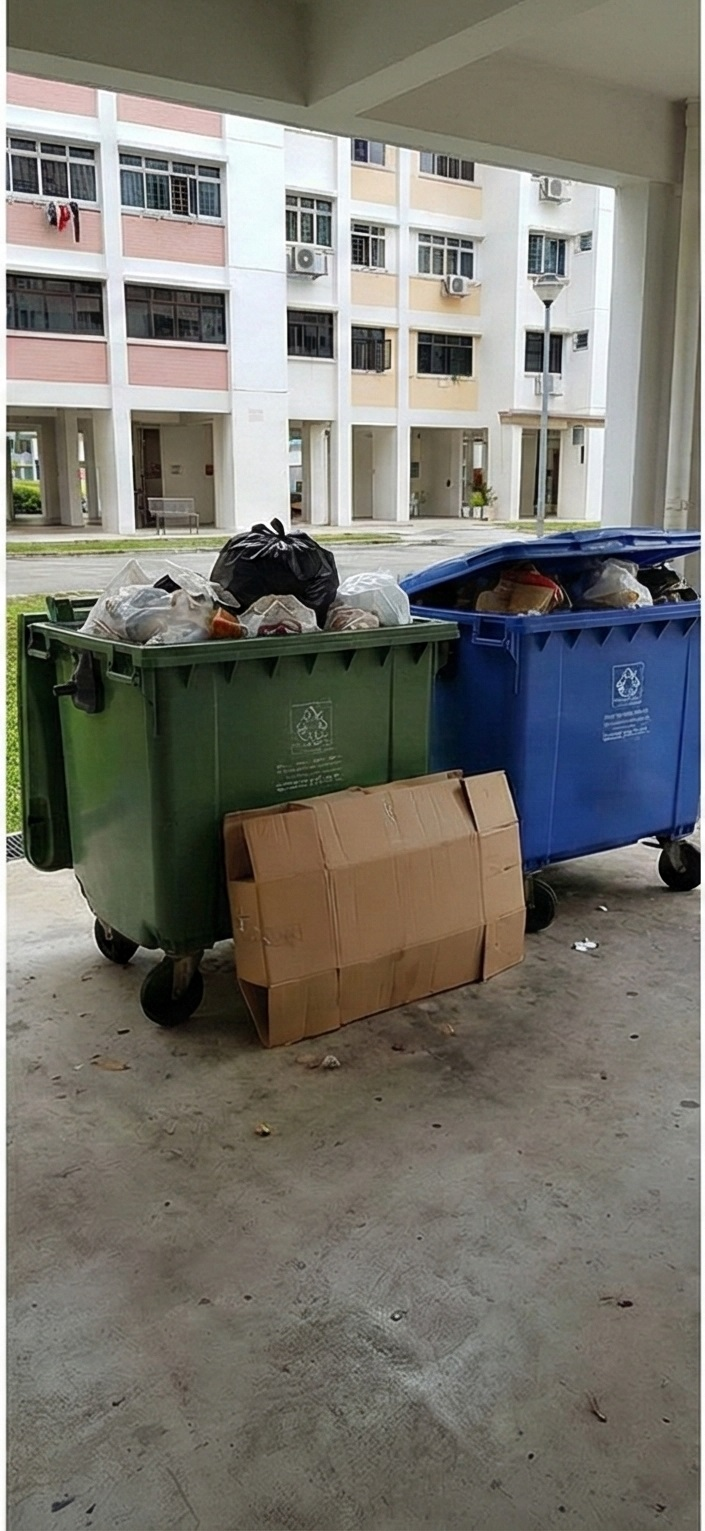bin_full: (18, 520, 456, 1025), (403, 527, 700, 929)
bulk_waste: (224, 772, 524, 1046)
